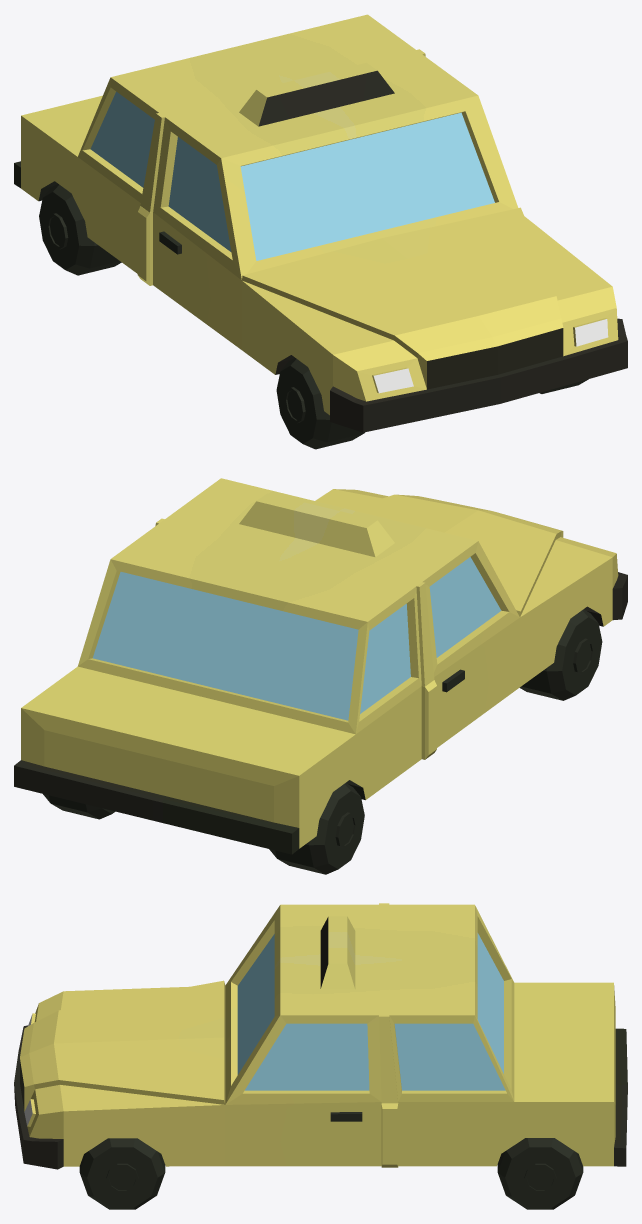
Rendered from quaternius-public-transport-taxi.glb.
3 views of the same model, one above another, from view 1: azimuth 30°, elevation 25°; view 2: azimuth 150°, elevation 25°; view 3: azimuth 270°, elevation 25° (orthographic). The views are drawn at different scales.
Parts seen in each view (by area): view 1: BackWheels; view 2: BackWheels; view 3: BackWheels.
Boxes of the visible parts, x1=… form: BackWheels: x1=14, y1=14, x2=627, y2=449; BackWheels: x1=14, y1=478, x2=627, y2=874; BackWheels: x1=14, y1=903, x2=627, y2=1209.
Size of the model in its own units: 1.84 by 1.45 by 3.79.
Materials: 1 (1 with a texture image).
